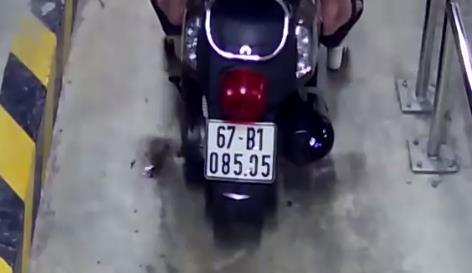lisence: (203, 118, 276, 184)
